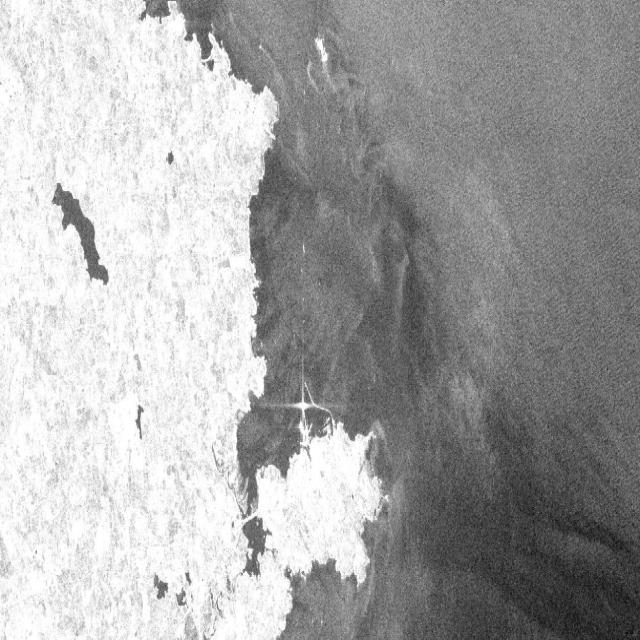look-alike: (481, 492, 640, 639)
ship: (290, 364, 315, 431)
